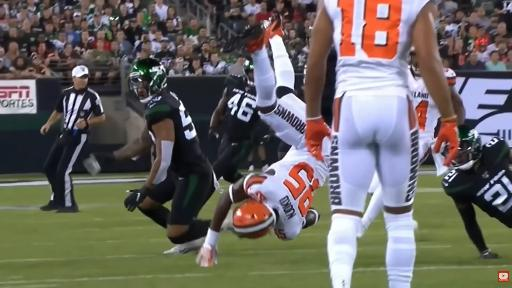Helmet: (233, 200, 276, 239), (129, 58, 166, 103), (452, 125, 481, 170), (409, 46, 420, 77), (244, 59, 253, 74), (306, 27, 312, 44)
Jersey: (324, 0, 429, 97), (244, 148, 326, 239), (442, 137, 511, 227), (145, 92, 211, 177), (224, 75, 259, 142), (409, 73, 440, 137)
Player: (305, 0, 458, 287), (197, 16, 327, 266), (125, 59, 218, 253), (442, 126, 511, 258), (209, 60, 259, 183), (409, 48, 447, 175), (137, 169, 179, 229), (321, 47, 337, 126)
